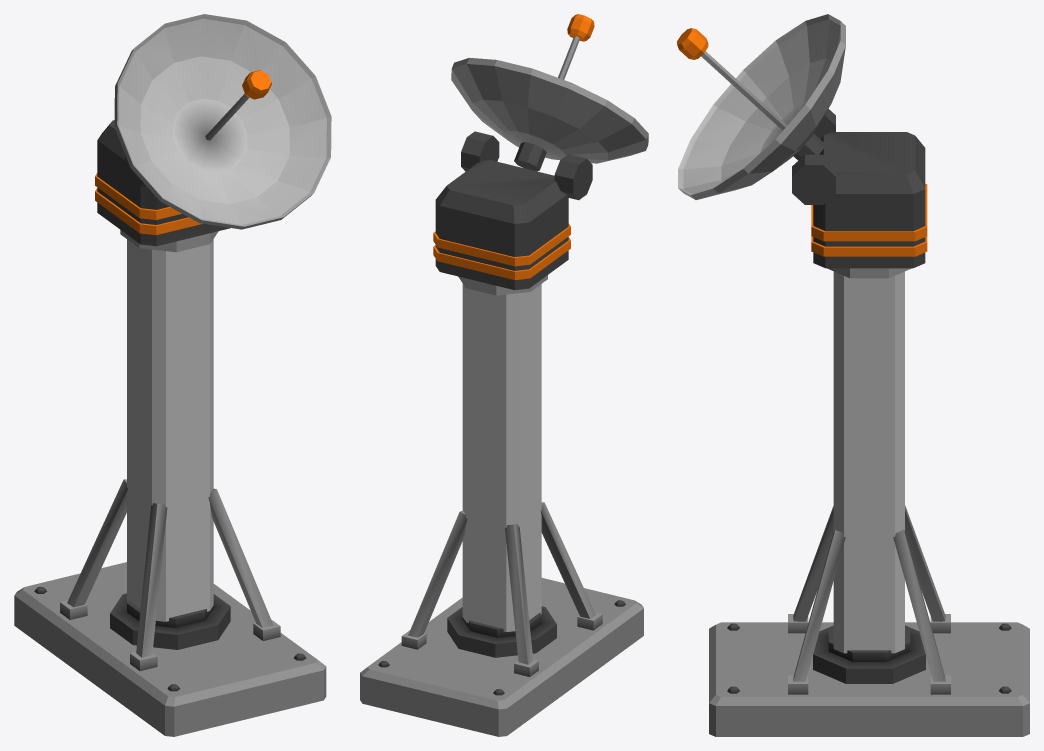
The model's file is satellite-dish.glb.
3 views of the same model, side by side, from view 1: azimuth 30°, elevation 25°; view 2: azimuth 150°, elevation 25°; view 3: azimuth 270°, elevation 25° (orthographic). The views are drawn at different scales.
Parts seen in each view (by area): view 1: satellite-dish; view 2: satellite-dish; view 3: satellite-dish.
Part boxes in pixels (bbox=[...]): satellite-dish: bbox=[14, 14, 331, 736]; satellite-dish: bbox=[360, 14, 648, 736]; satellite-dish: bbox=[677, 14, 1029, 736].
Bounding box in the file's own units: 1.38 × 4.34 × 2.08.
1 material, 1 textured.
